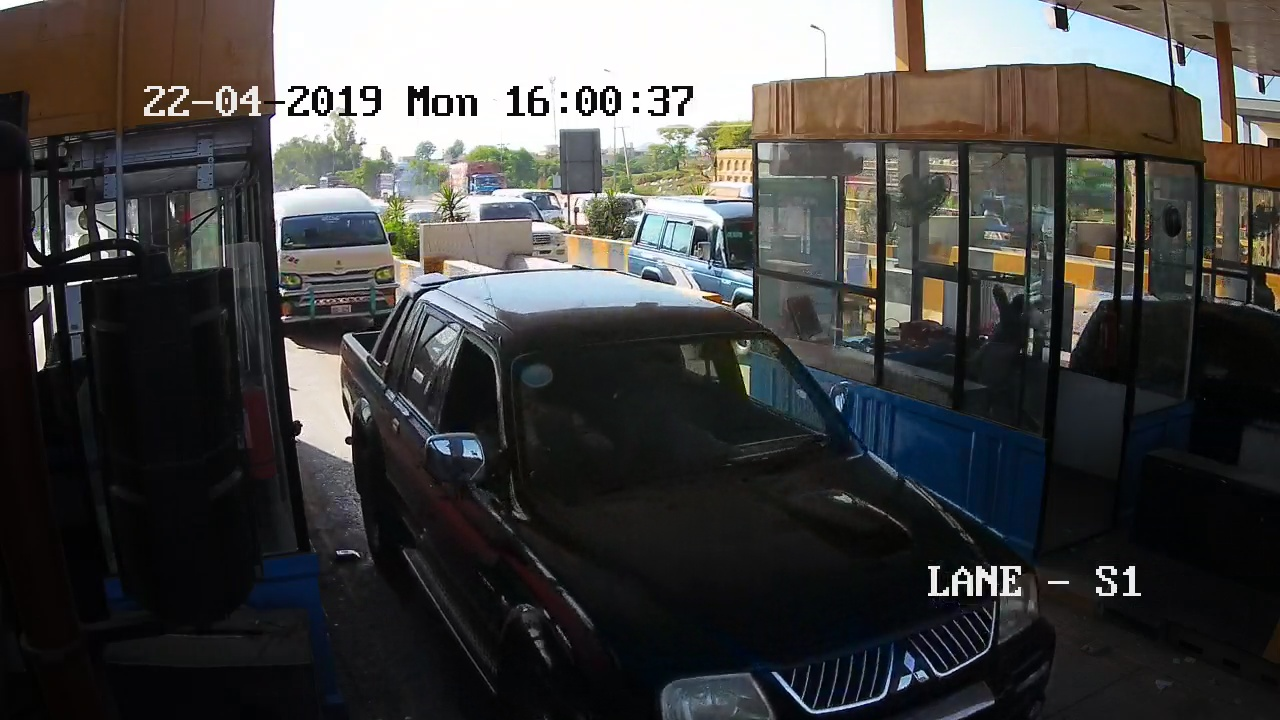car: (390, 317, 1072, 720), (273, 200, 395, 313)
